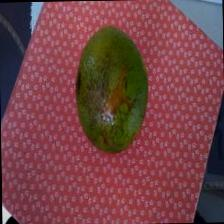Orange Rotten: (60, 14, 162, 163)
